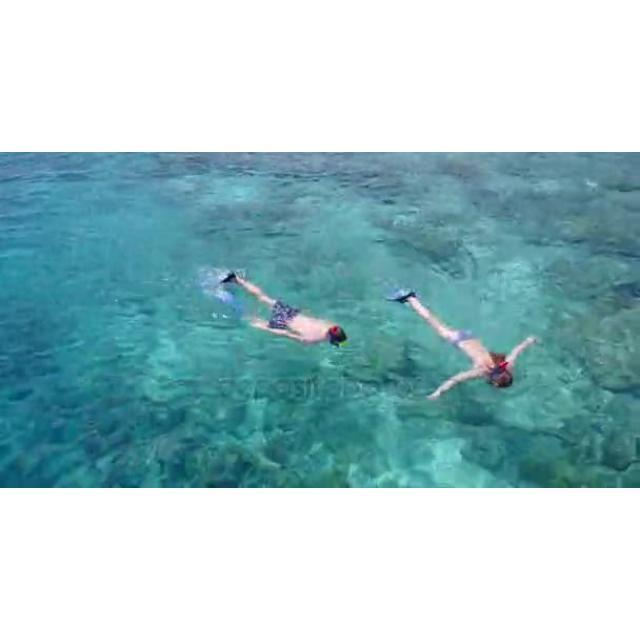human: (394, 287, 537, 400), (224, 272, 346, 347)
